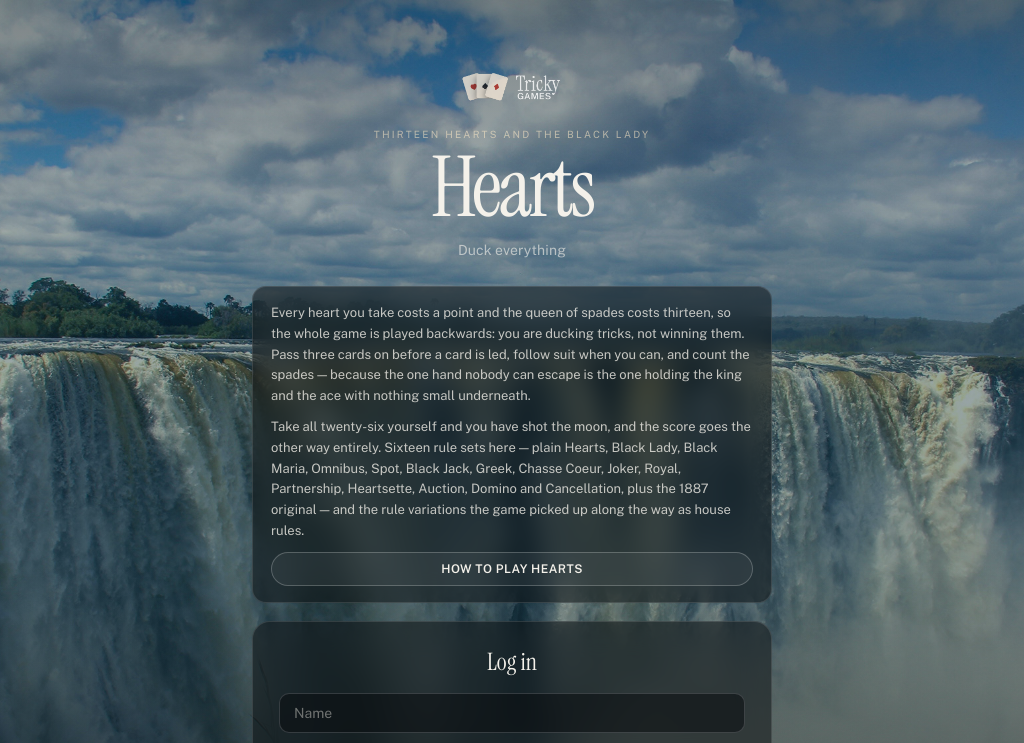
Test: the Hearts rules panel re-reads itself when the rule set is switched
The image size is (1024, 743).
Click the button "How to play Hearts". click: [512, 569]
box: [271,552,753,586]
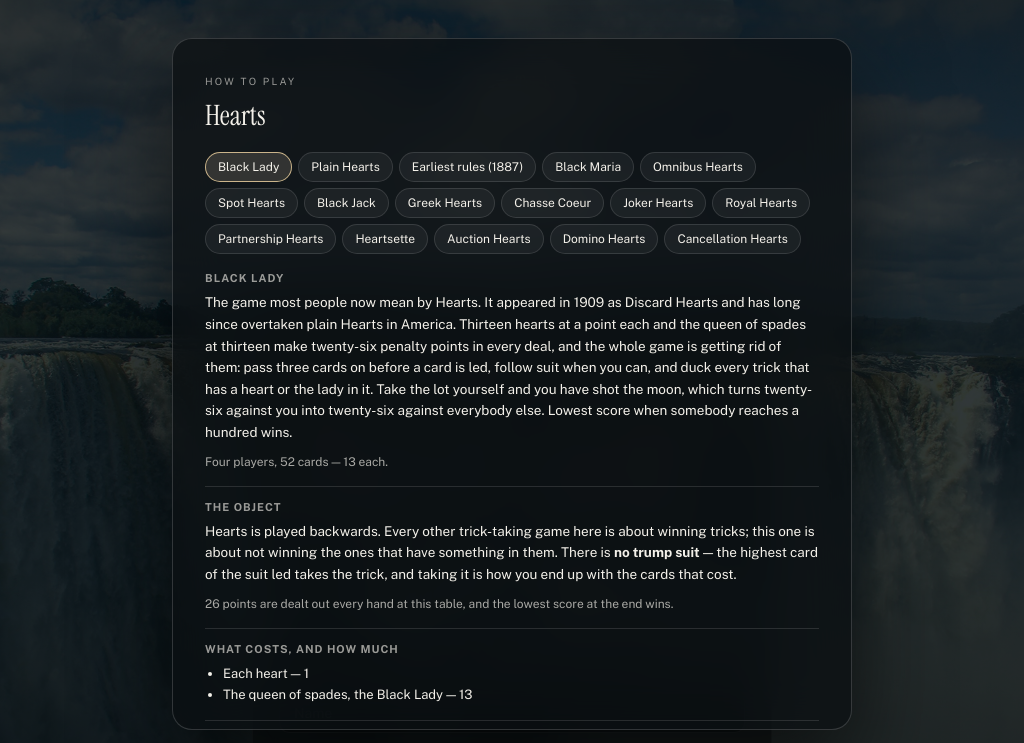
Click the tab "Spot Hearts". click: [252, 203]
box: [205,188,298,218]
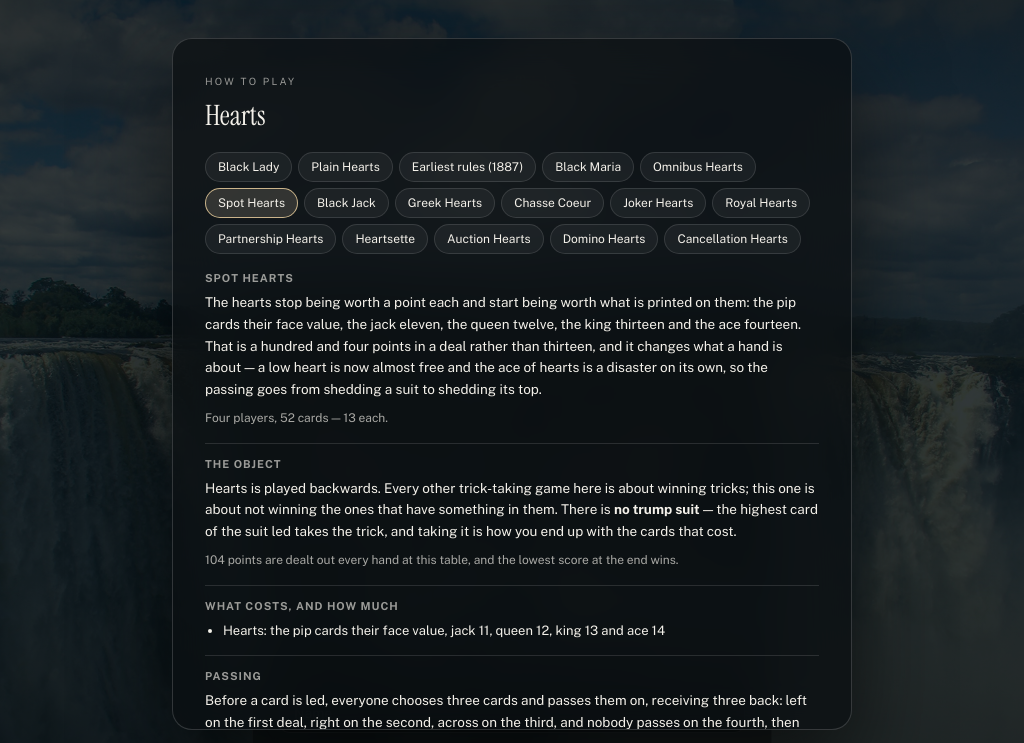
Result: the dialog "How to play Hearts" no longer shows "Black Lady — 13"
